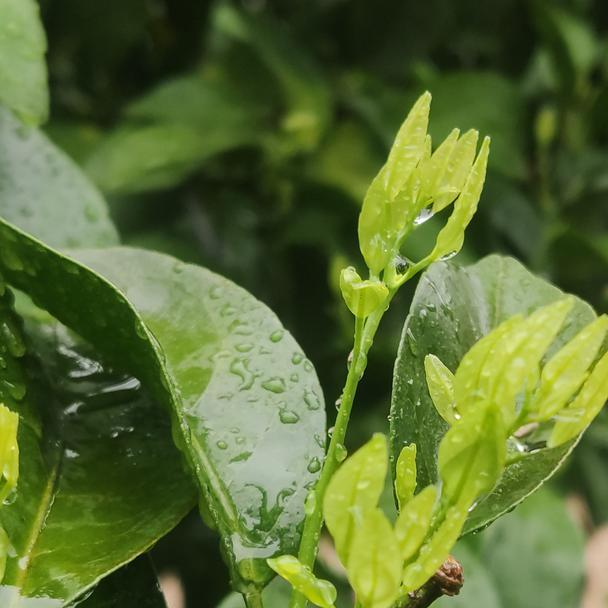shoot: (338, 94, 494, 320), (451, 305, 608, 482), (326, 439, 463, 607)
